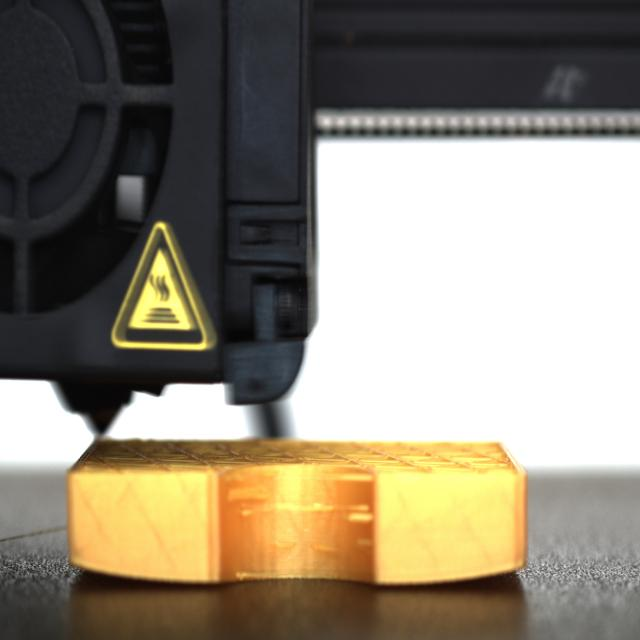Warping: (451, 553, 528, 593), (67, 552, 144, 587)
